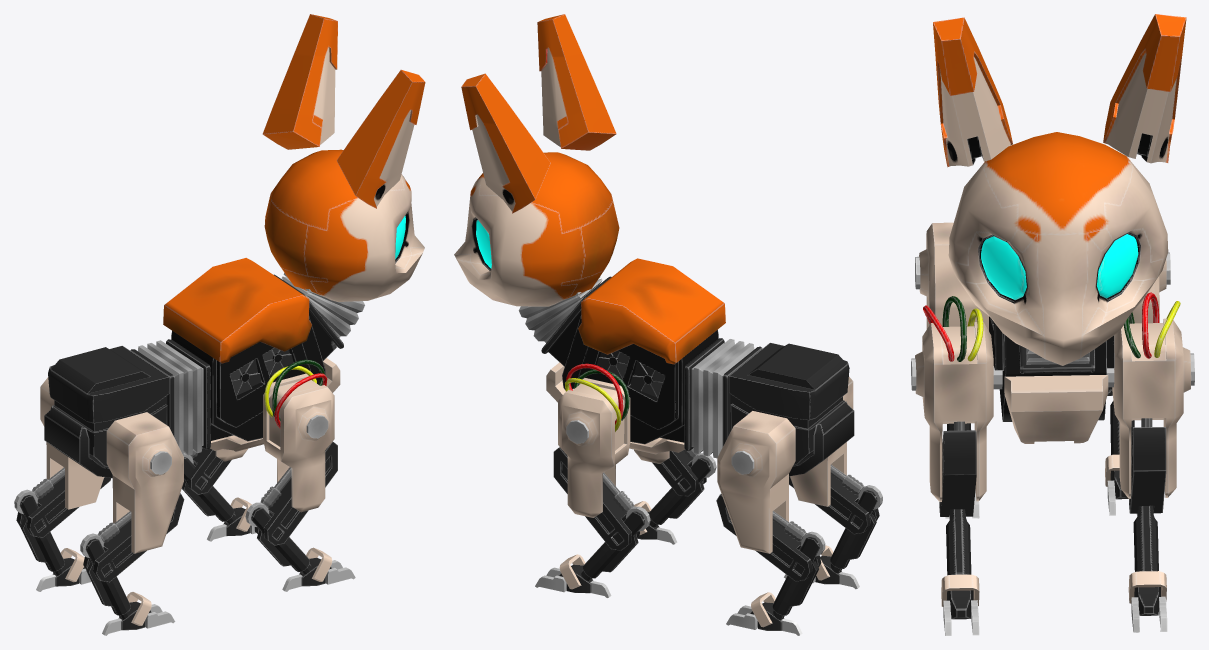
The model's file is Nugget.dae.
3 renders of one model, left to right at view 1: azimuth 30°, elevation 25°; view 2: azimuth 150°, elevation 25°; view 3: azimuth 270°, elevation 25°, orthographic. The views are drawn at different scales.
Visible parts, largest first — view 1: Nugget_Animation_Test_0032_curve4; view 2: Nugget_Animation_Test_0032_curve4; view 3: Nugget_Animation_Test_0032_curve4.
Part boxes in pixels (bbox=[...]): Nugget_Animation_Test_0032_curve4: bbox=[14, 14, 425, 635]; Nugget_Animation_Test_0032_curve4: bbox=[454, 14, 882, 635]; Nugget_Animation_Test_0032_curve4: bbox=[911, 14, 1194, 635].
Bounding box in the file's own units: 399 × 490 × 193.
Materials: 1 (1 with a texture image).
